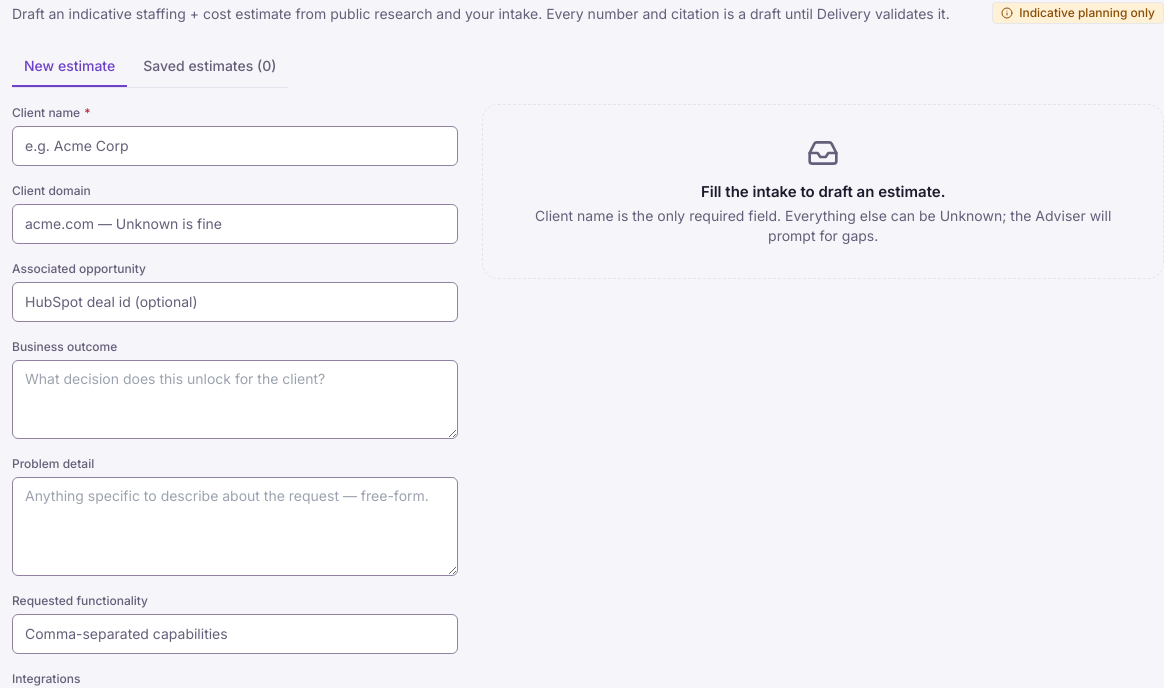
it: DiscoveryPage › never fabricates a citation when sources[] is empty
Type "Acme Corp" into the field labelled "Client name*".
click(235, 146); type("Acme Corp")  # box [12,126,458,166]
(page scrolled)
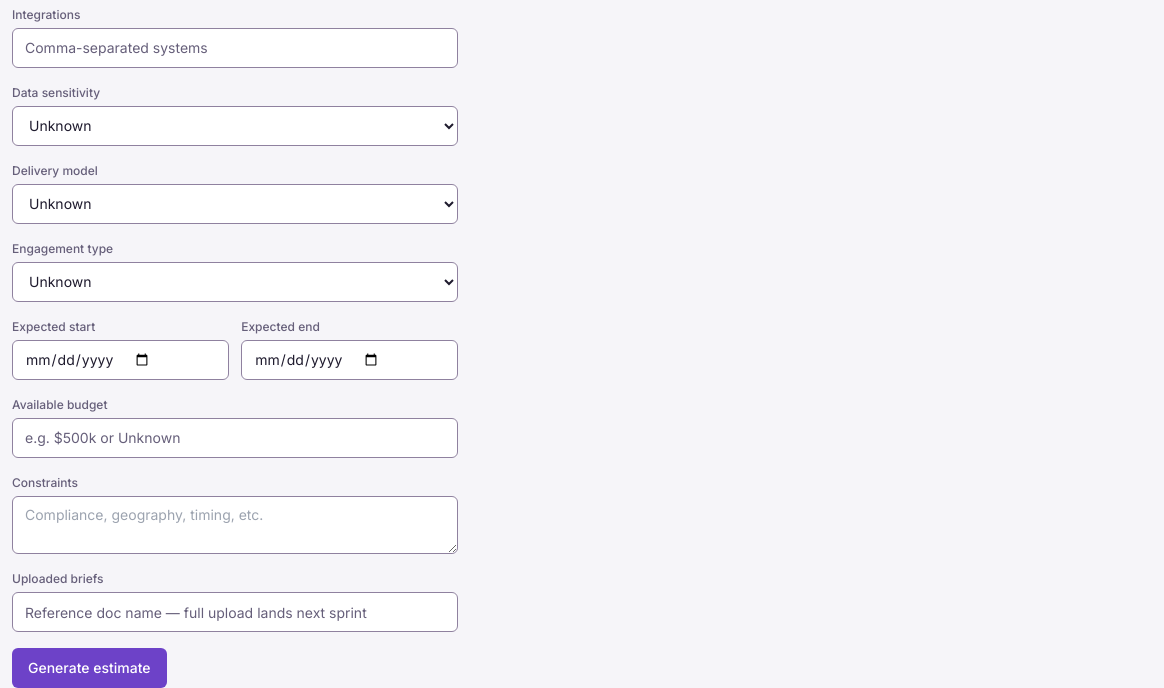
Click the button "Generate estimate".
click(89, 668)  # box [12,648,166,687]
(page scrolled)
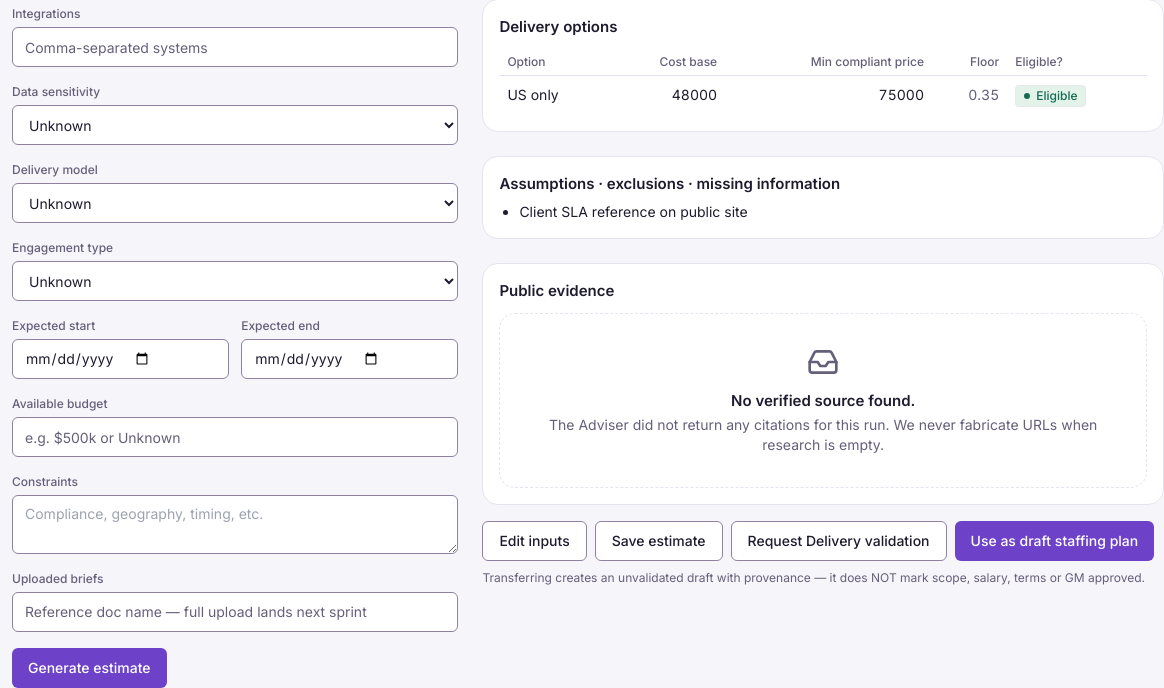
Now the element with test id "adviser-sources" shows "No verified source found", box [731,391,915,410]
